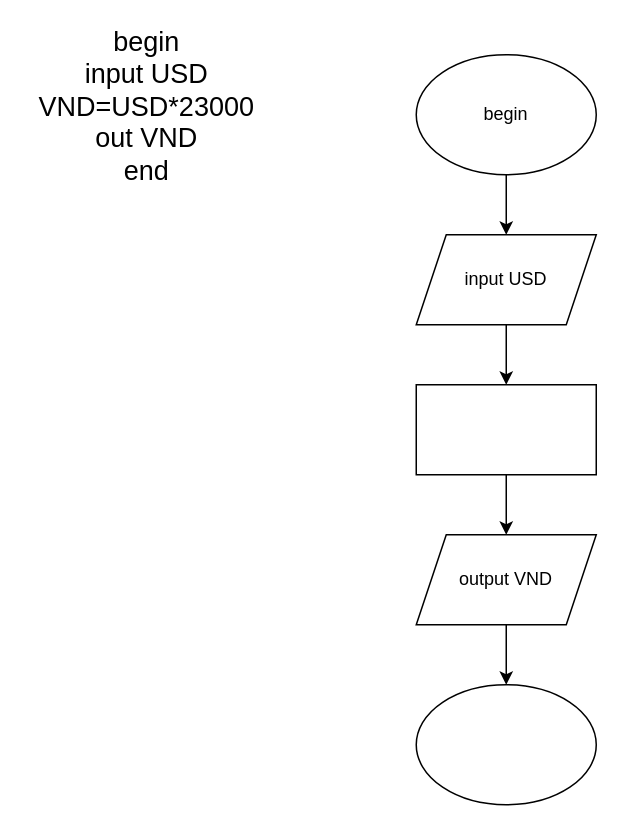
This 623x831 diagram has some shape labels left out. The centre of each missing label's shape, as x and y in pixels:
end: the point at 505,744
VND=USD*23000: the point at 505,429
